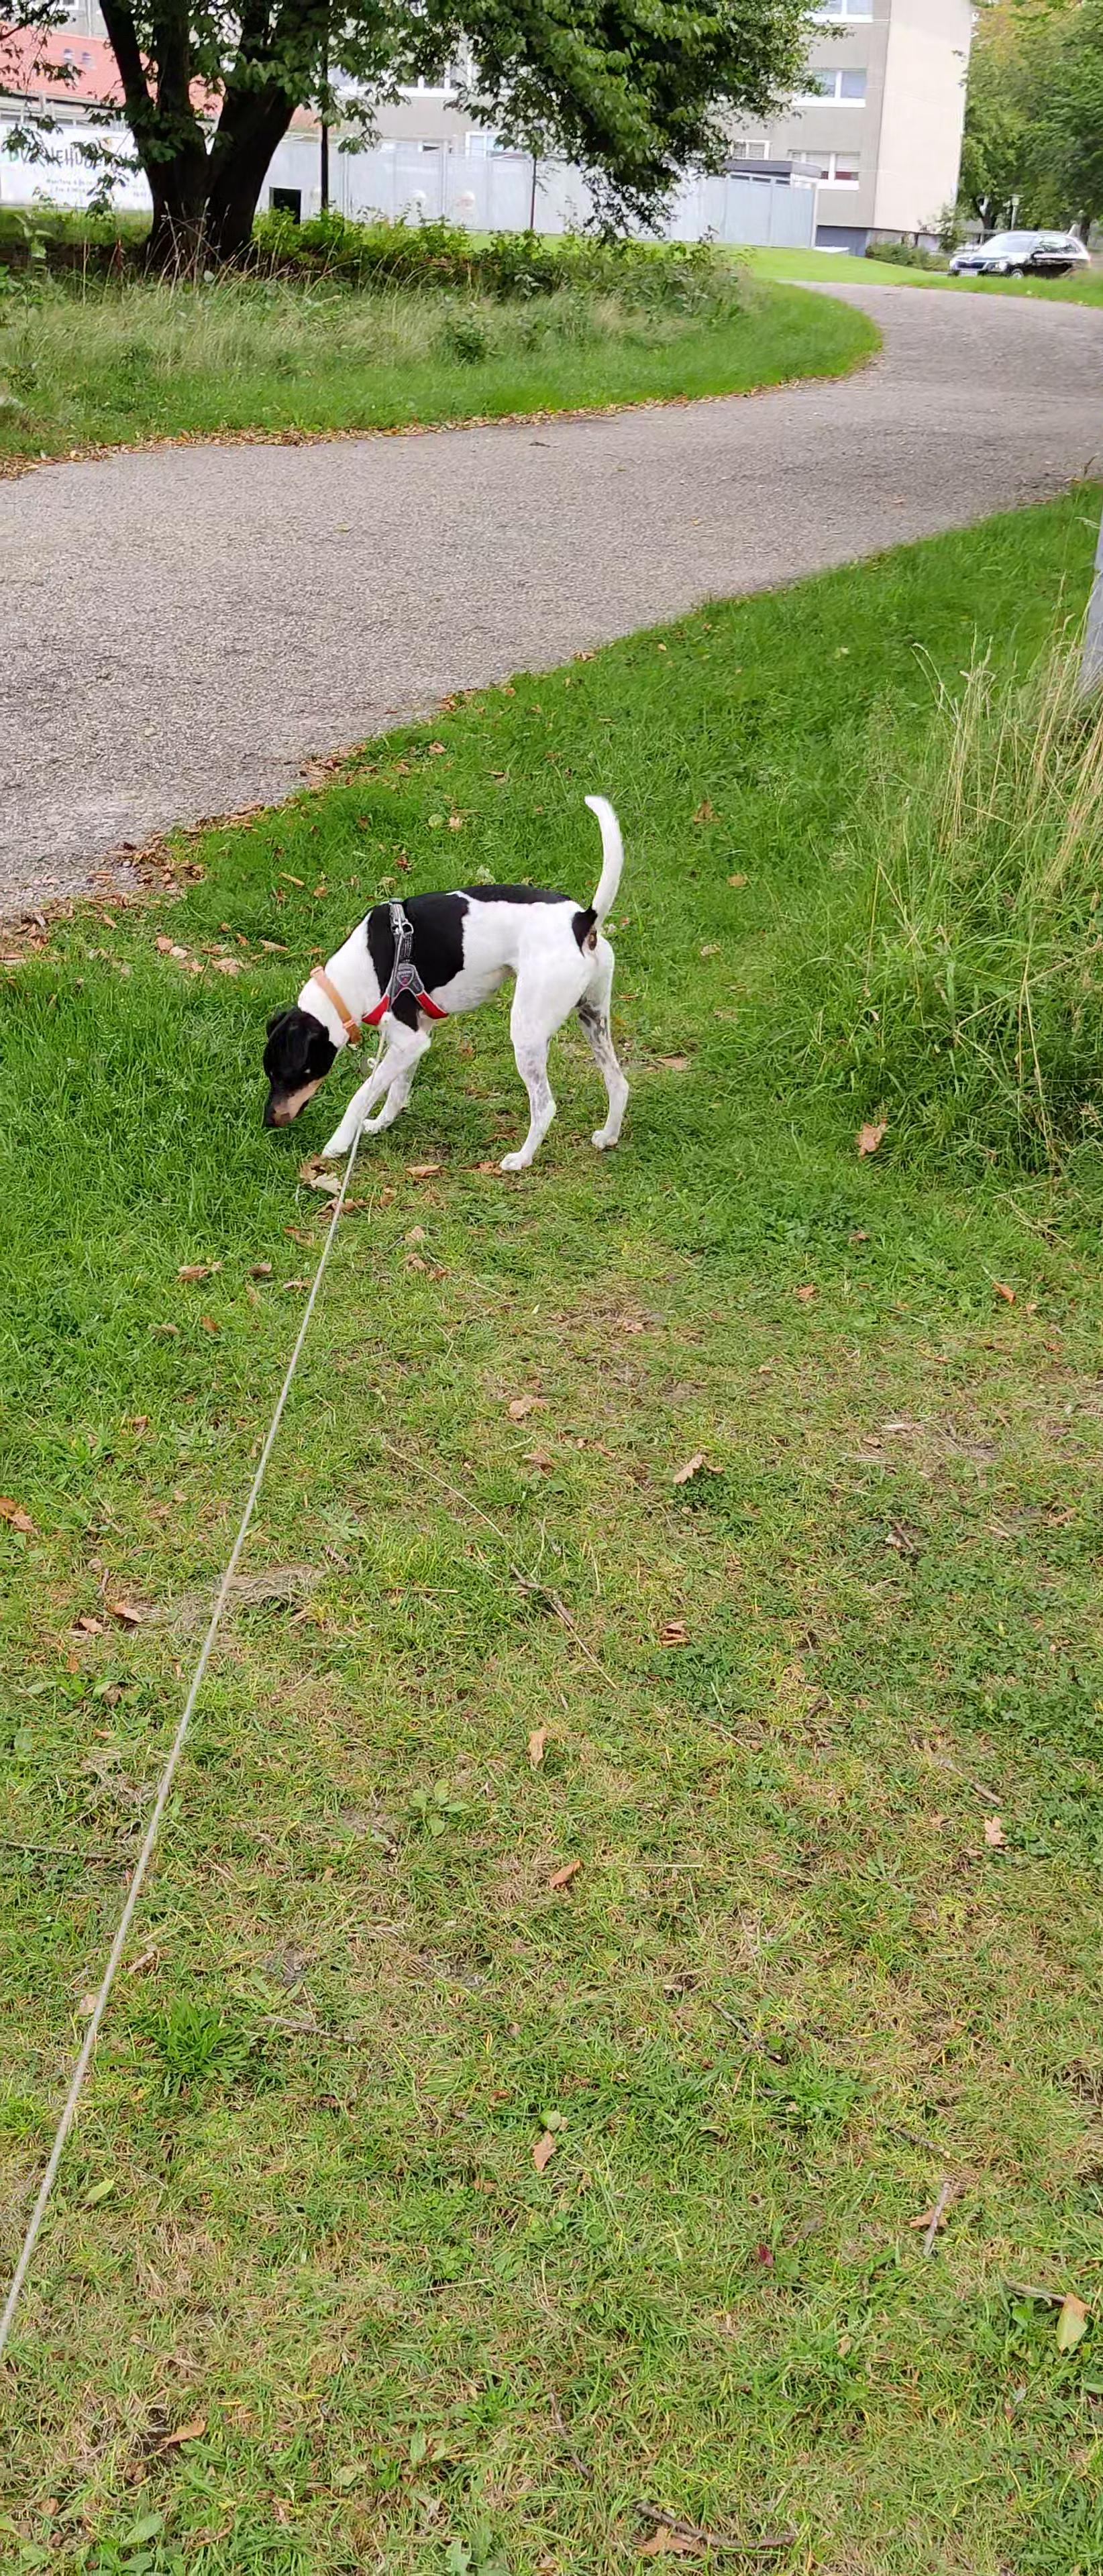Dog: (250, 784, 636, 1175)
